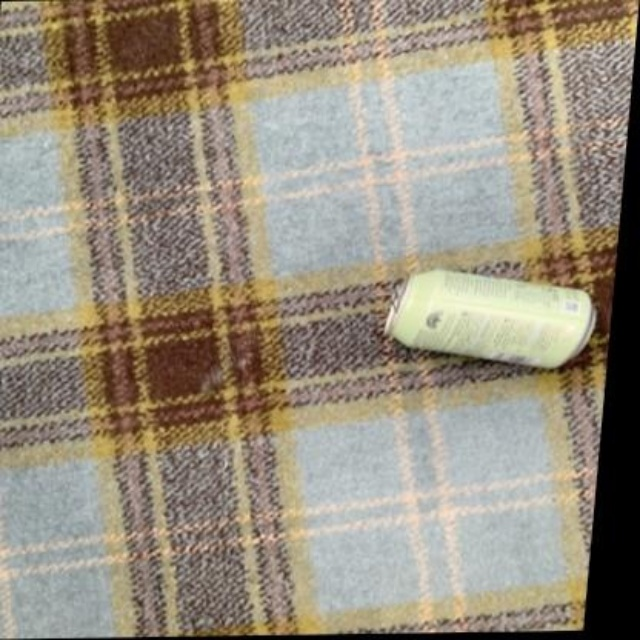trash: (385, 269, 594, 368)
